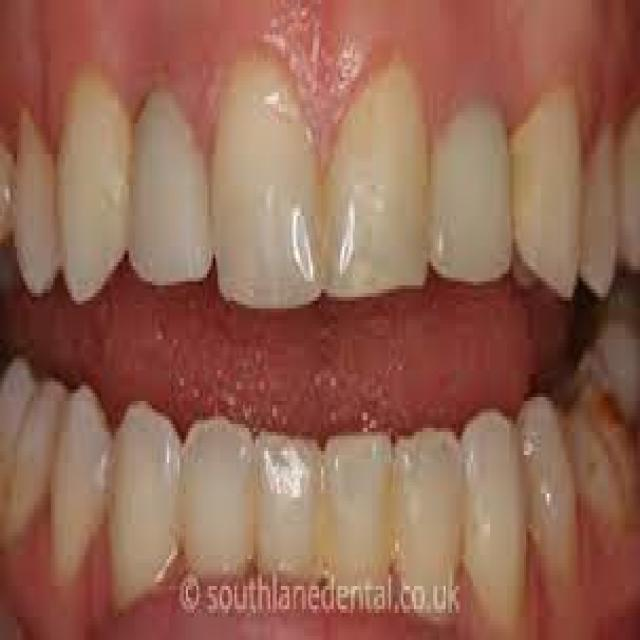tooth: (209, 38, 325, 304), (326, 58, 420, 297), (57, 73, 123, 305), (431, 100, 515, 282), (133, 92, 213, 278), (515, 89, 579, 293), (116, 401, 175, 586), (180, 428, 249, 578), (471, 416, 520, 617), (520, 401, 574, 574), (399, 432, 452, 605), (328, 432, 384, 594), (17, 104, 61, 289), (262, 440, 317, 582), (53, 393, 93, 532), (581, 123, 612, 290), (570, 401, 610, 520), (612, 115, 640, 262), (600, 324, 636, 412), (21, 405, 49, 486), (6, 354, 24, 412)
